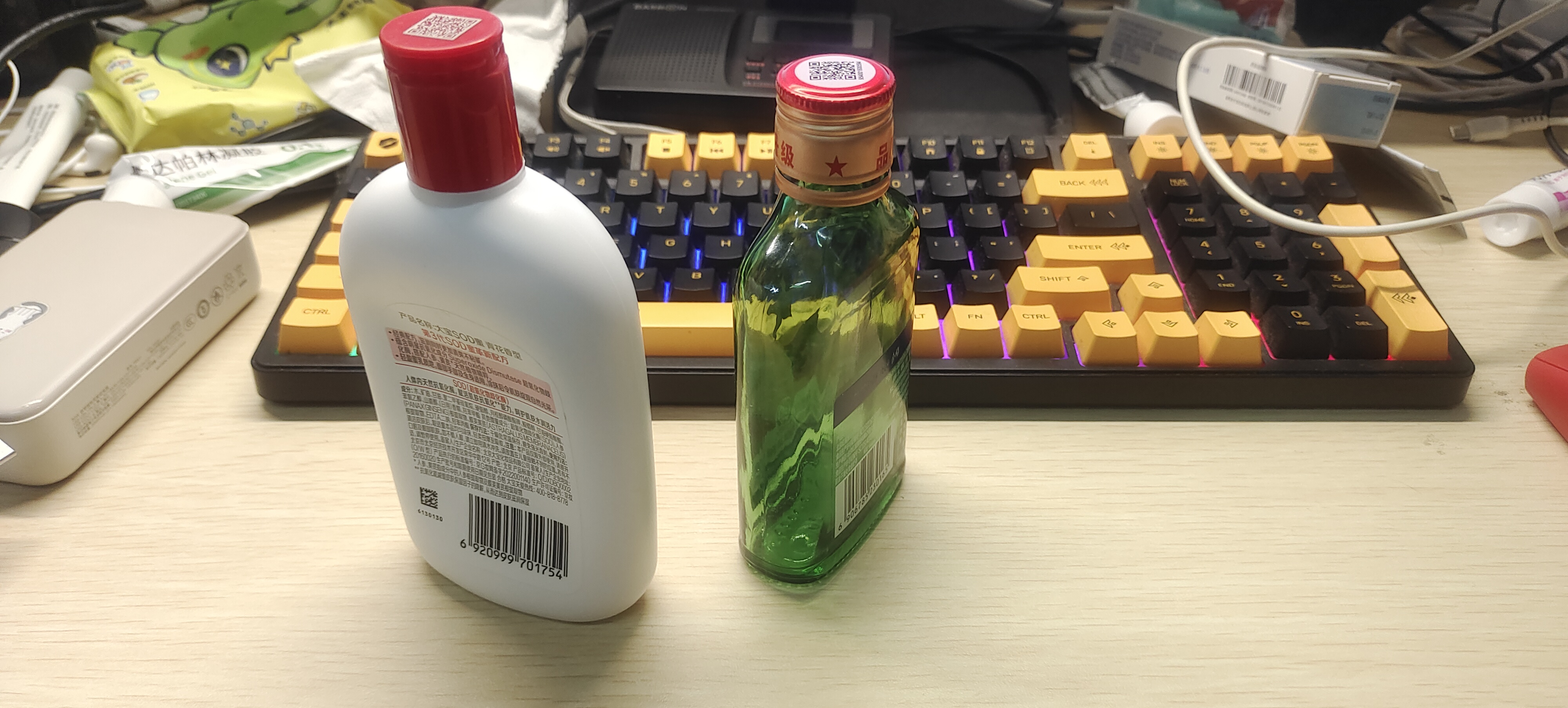redbull: (701, 55, 965, 554)
